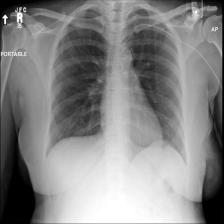normal: (41, 3, 191, 171)
